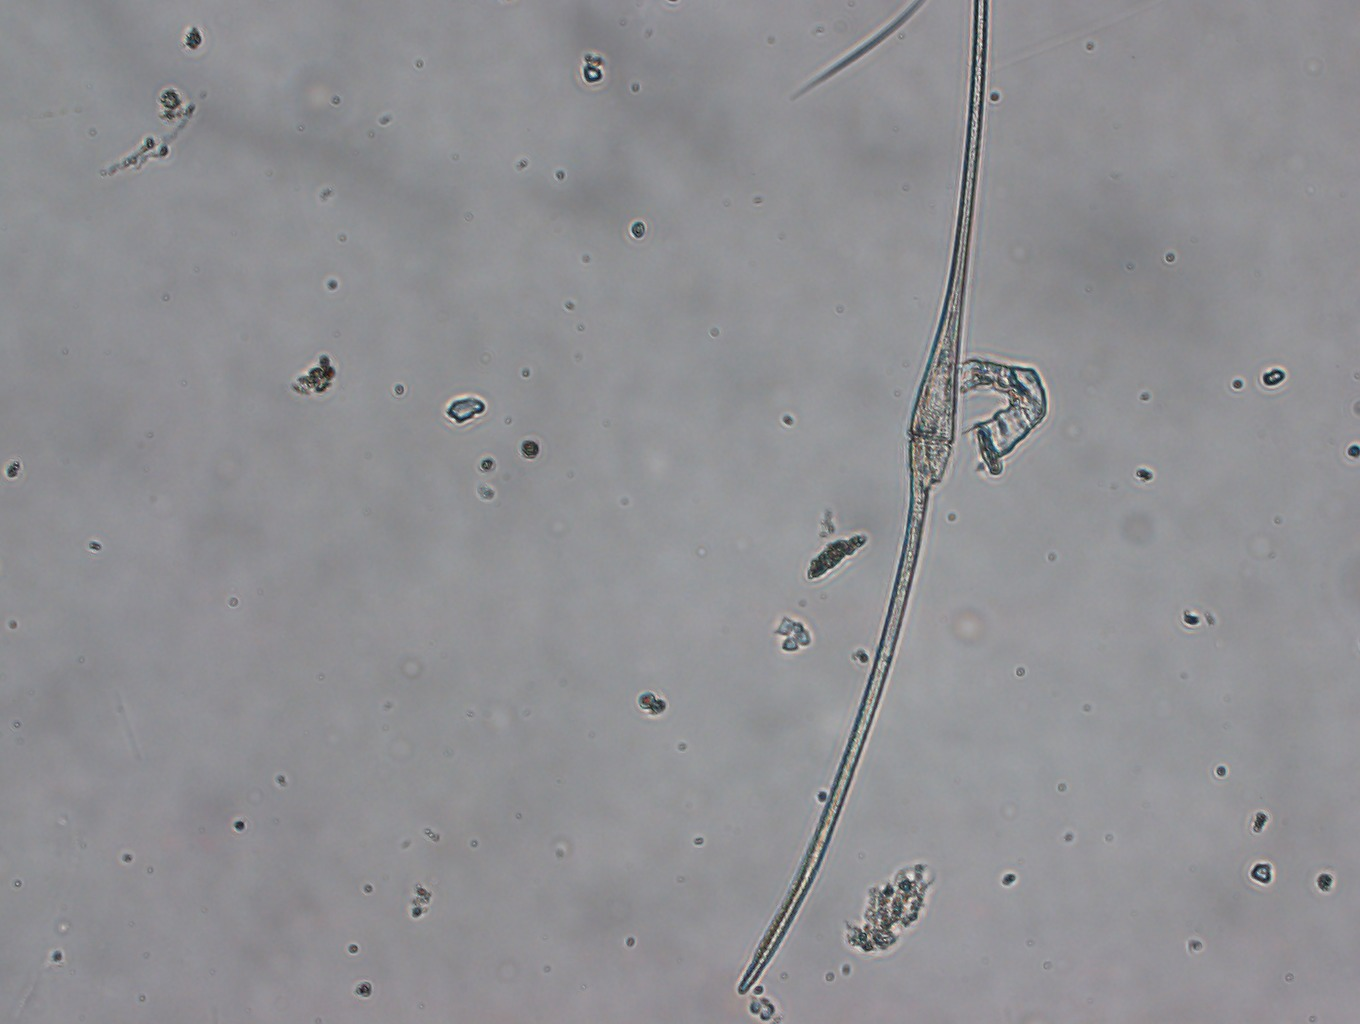ceratium fusus: (735, 1, 992, 998)
